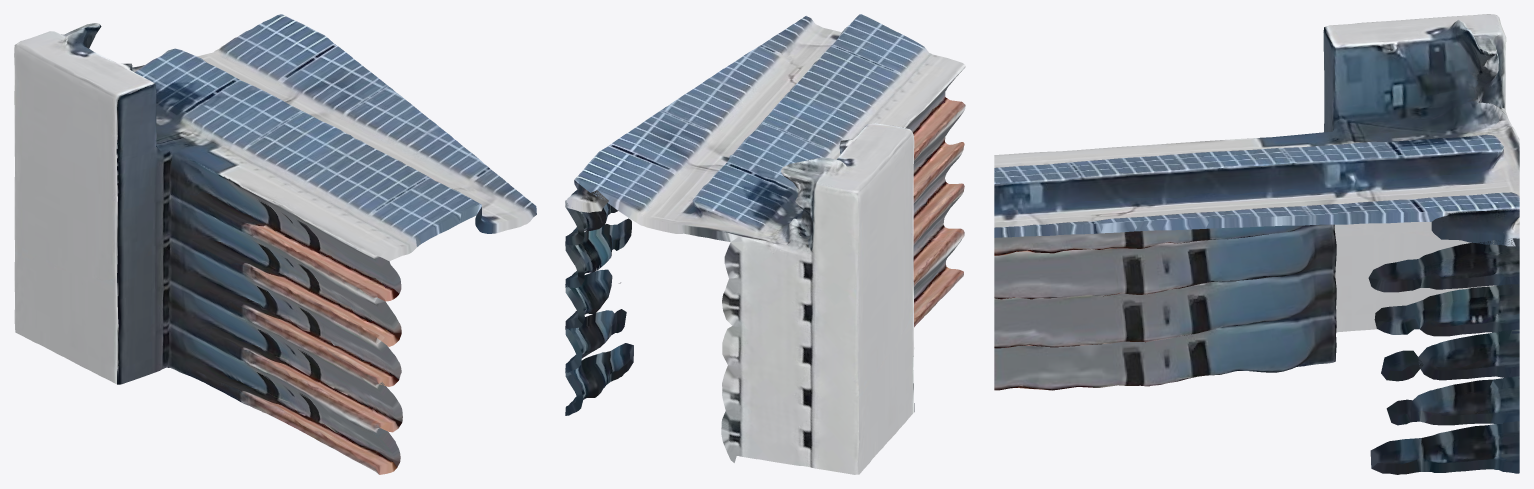
The model's file is z20-167730-405196-h1-yup-uvflip-v3-world.glb.
The picture shows the model from 3 angles, left to right: view 1: azimuth 30°, elevation 25°; view 2: azimuth 150°, elevation 25°; view 3: azimuth 270°, elevation 25°; orthographic projection. The views are drawn at different scales.
Bounding box in the file's own units: 20.6 × 21.04 × 30.32.
1 material, 1 textured.
